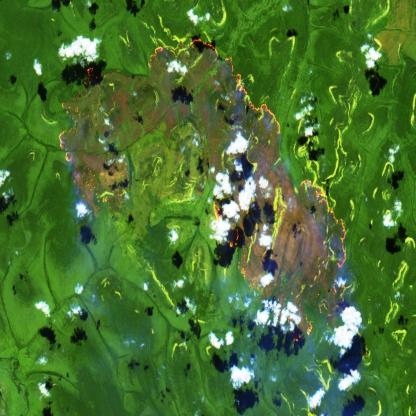fire: (132, 30, 356, 354), (53, 57, 136, 225)
